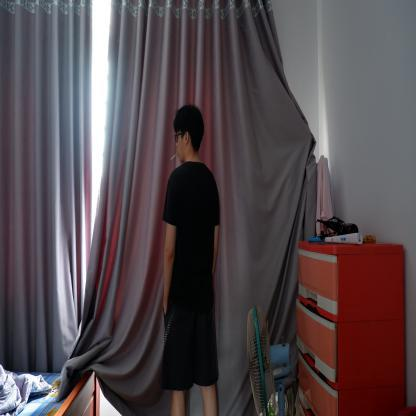cigarette: (170, 152, 178, 161)
person: (161, 102, 223, 415)
